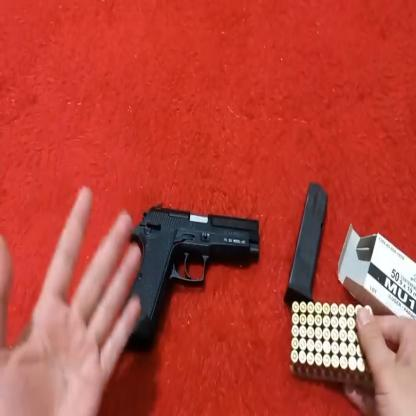handgun: (130, 204, 264, 317)
